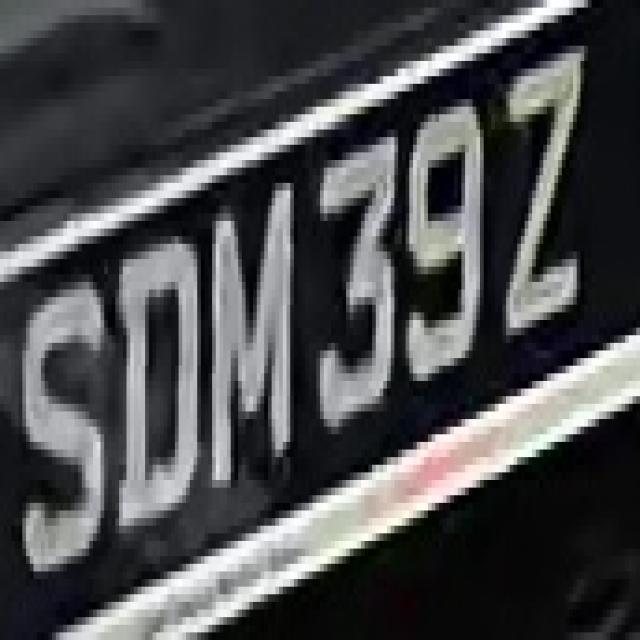3: (312, 114, 402, 480)
9: (395, 106, 491, 412)
D: (104, 221, 205, 556)
M: (205, 152, 301, 518)
S: (4, 259, 115, 610)
Z: (495, 23, 603, 358)
